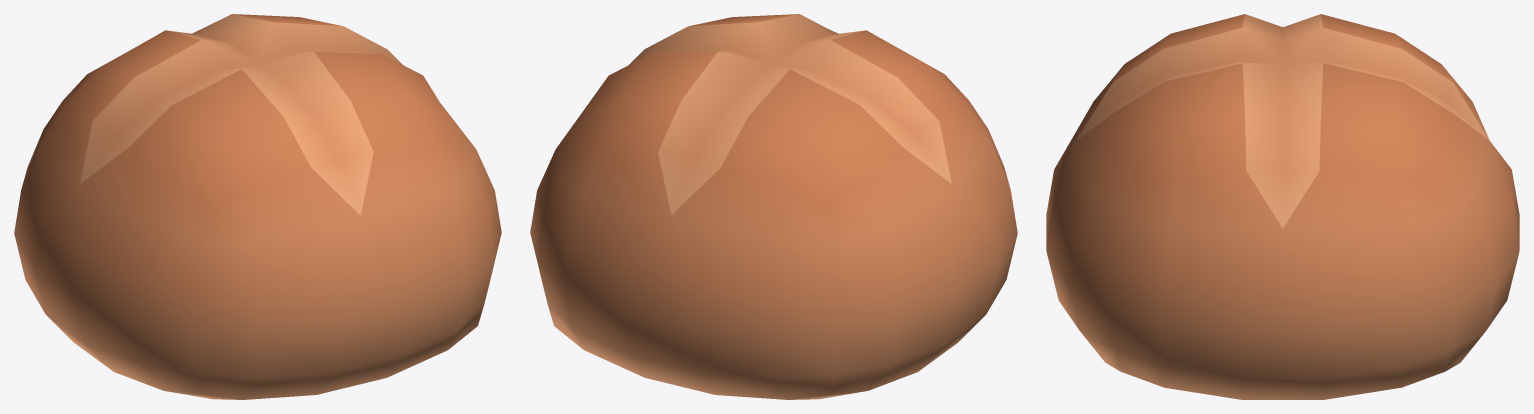
Rendered from bread_roll.obj.
3 views of the same model, side by side, from view 1: azimuth 30°, elevation 25°; view 2: azimuth 150°, elevation 25°; view 3: azimuth 270°, elevation 25° (orthographic).
Parts seen in each view (by area): view 1: bread_roll; view 2: bread_roll; view 3: bread_roll.
Part boxes in pixels (x1=…): bread_roll: x1=14, y1=14, x2=501, y2=399; bread_roll: x1=530, y1=14, x2=1017, y2=399; bread_roll: x1=1046, y1=14, x2=1519, y2=399.
Size of the model in its own units: 0.4196 by 0.2997 by 0.4196.
1 material, 1 textured.
